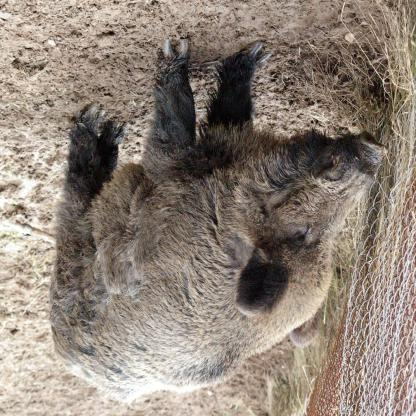boar: (46, 35, 389, 404)
